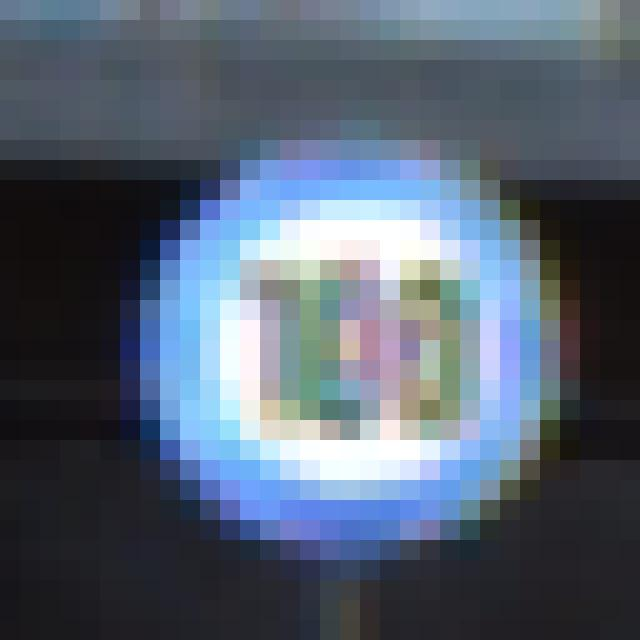SPEED LIMIT 100: (111, 126, 565, 554)
